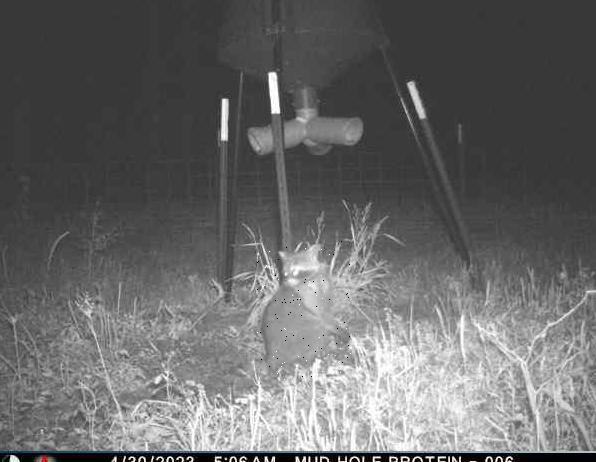Raccoon: (256, 239, 354, 385)
